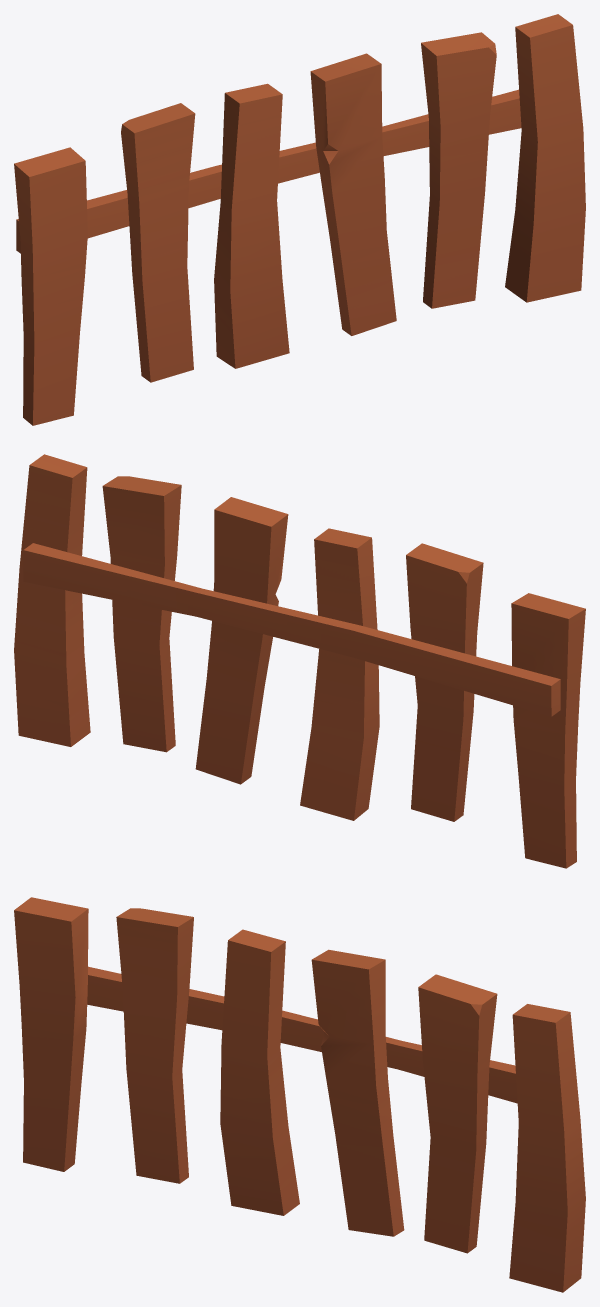
Rendered from SM_Fence_Small_1.fbx.
3 views of the same model, one above another, from view 1: azimuth 30°, elevation 25°; view 2: azimuth 150°, elevation 25°; view 3: azimuth 330°, elevation 25° (orthographic).
Visible parts, largest first — view 1: SM_Fence_Small_1; view 2: SM_Fence_Small_1; view 3: SM_Fence_Small_1.
Boxes of the visible parts, <box> form: SM_Fence_Small_1: <box>14,14,585,425</box>; SM_Fence_Small_1: <box>14,454,585,868</box>; SM_Fence_Small_1: <box>14,897,585,1292</box>.
Size of the model in its own units: 214 by 103 by 17.74.
